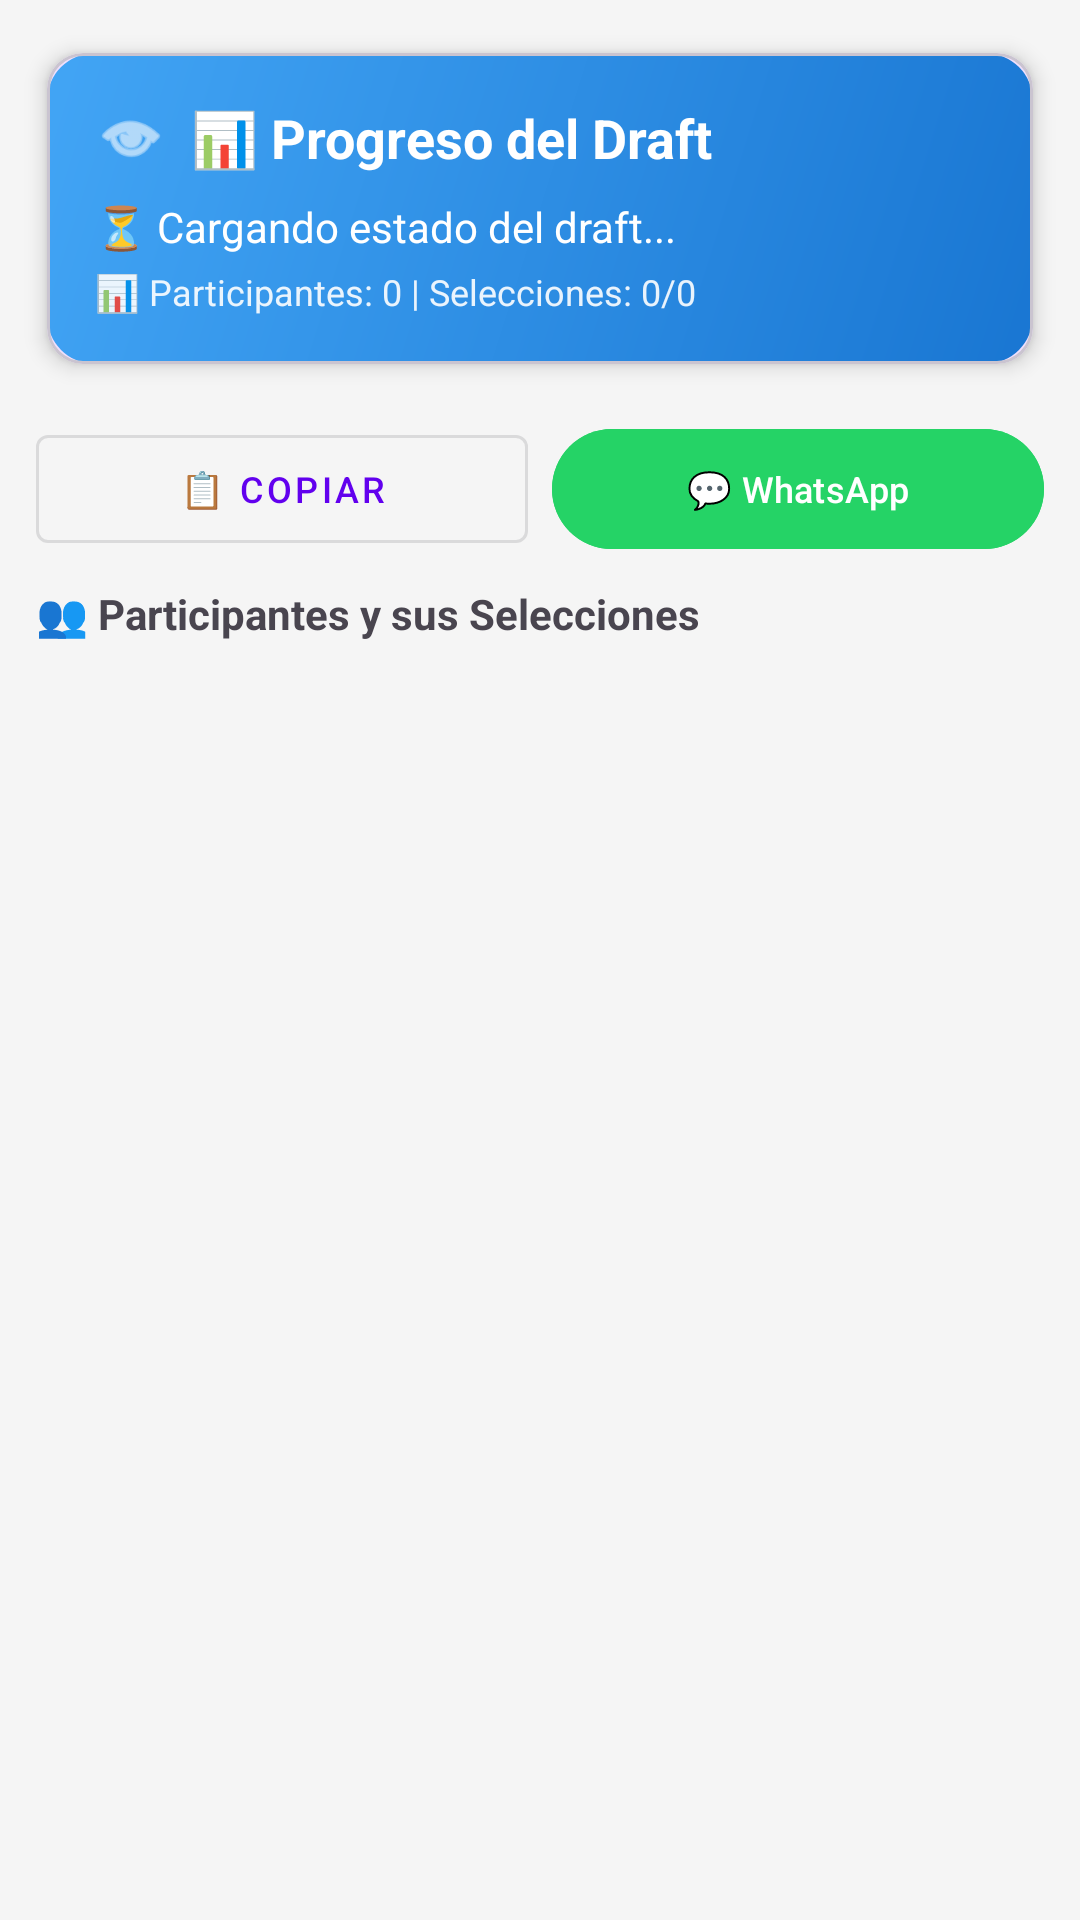

Where to tap for icons on this 1080*1920 app screen, as (x,y):
view: (131,138)
